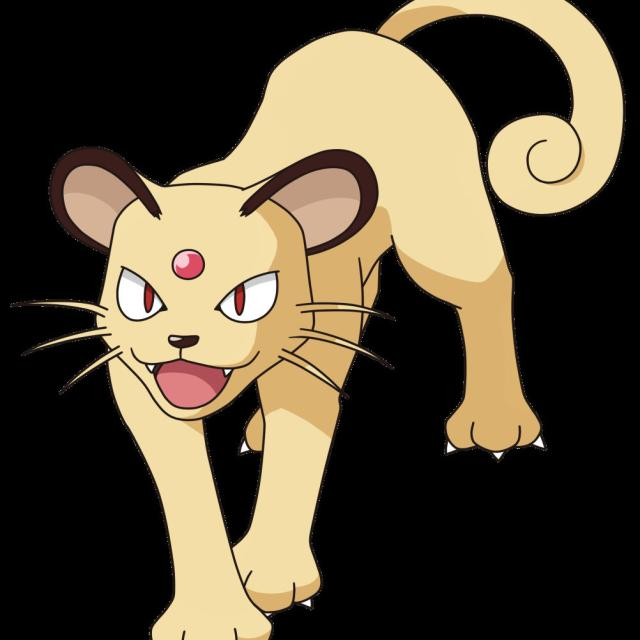Persian: (56, 17, 562, 640)
